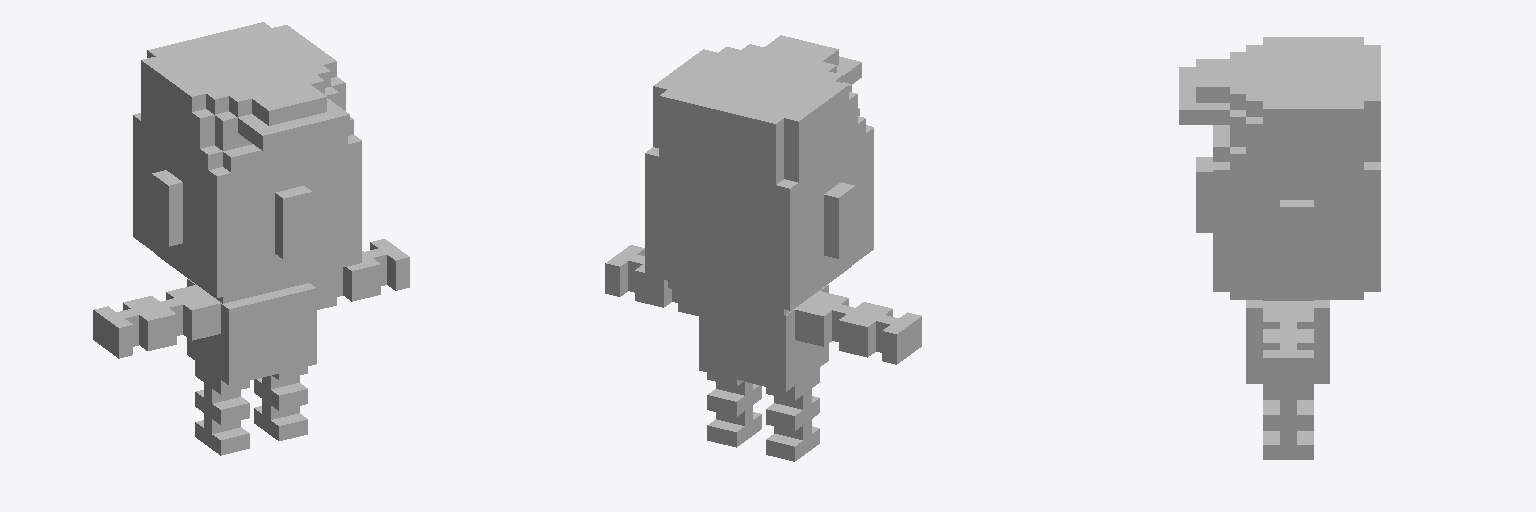
The model's file is OldMan.obj.
The picture shows the model from 3 angles: view 1: azimuth 30°, elevation 25°; view 2: azimuth 150°, elevation 25°; view 3: azimuth 270°, elevation 25°; orthographic projection.
Visible parts, largest first — view 1: object 1; view 2: object 1; view 3: object 1.
Boxes of the visible parts, box(x1,y1,x2,y2) form: object 1: box(93, 22, 409, 455); object 1: box(605, 35, 921, 461); object 1: box(1179, 37, 1380, 459).
Bounding box in the file's own units: 2 × 2.4 × 1.2.